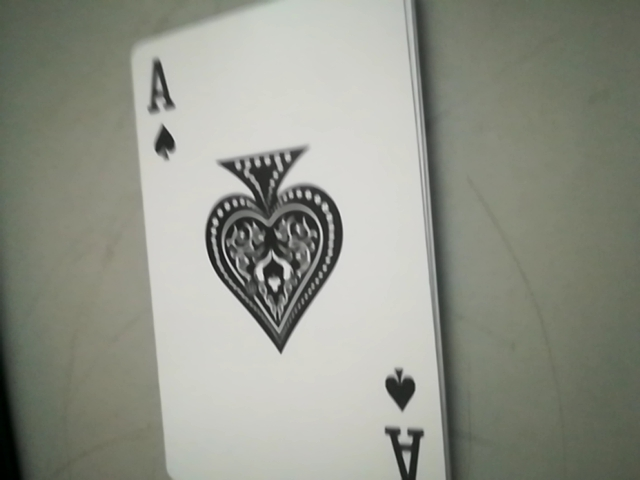ht a: (131, 49, 186, 171)
